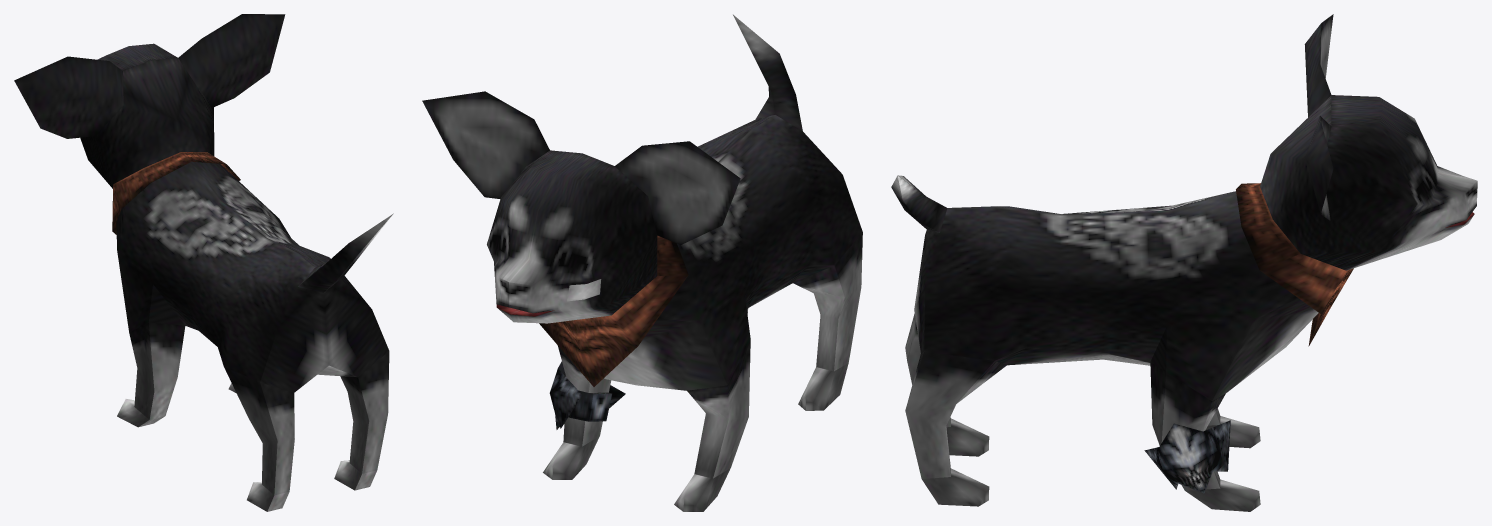
File: godh0.ico.obj
3 renders of one model, left to right at view 1: azimuth 30°, elevation 25°; view 2: azimuth 150°, elevation 25°; view 3: azimuth 270°, elevation 25°, orthographic. The views are drawn at different scales.
Size of the model in its own units: 2.56 by 3.11 by 4.1.
1 material, 1 textured.
